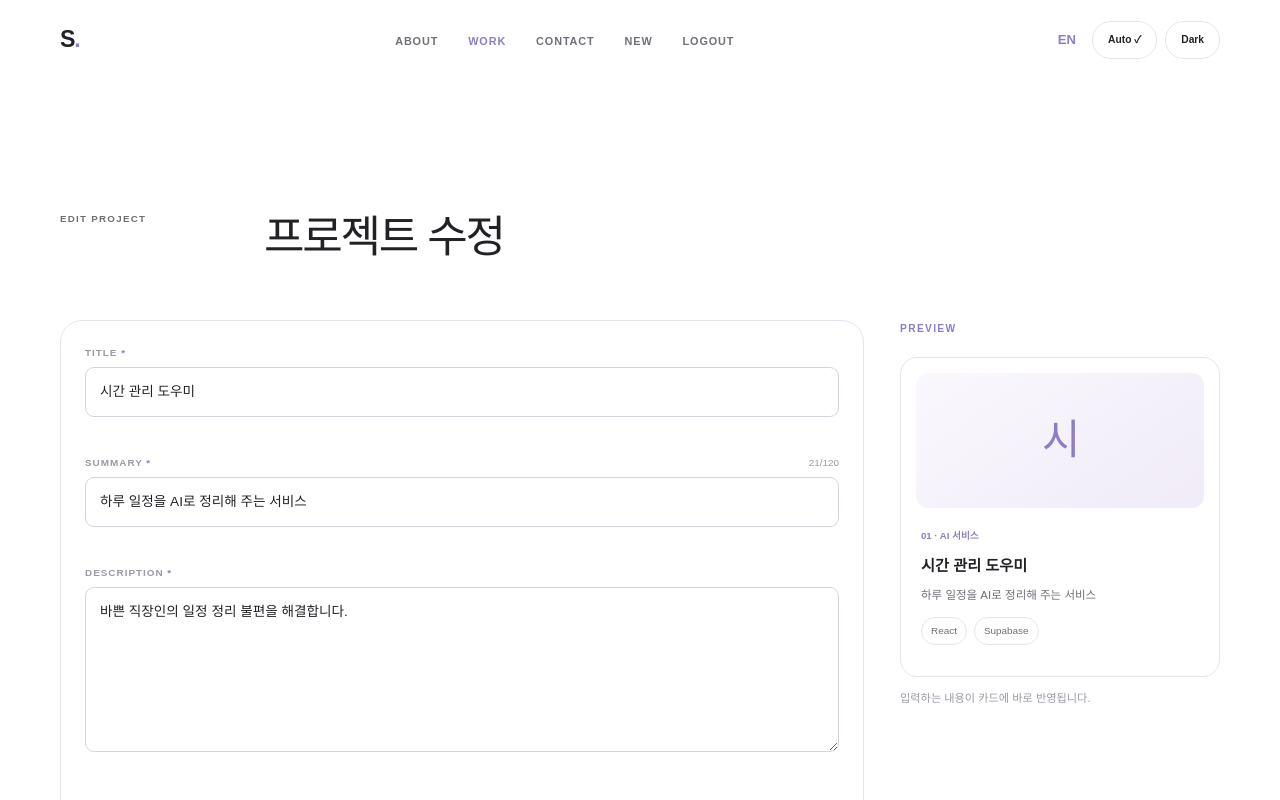
수정 화면 (/projects/:id/edit) › 기존 값을 채워 보여주고, 저장하면 상세 화면으로 돌아간다
This screenshot has width=1280, height=800.
Replace the text in the field labelled "TITLE *" with "새 제목" at (462, 392), box [85, 368, 839, 417]
(page scrolled)
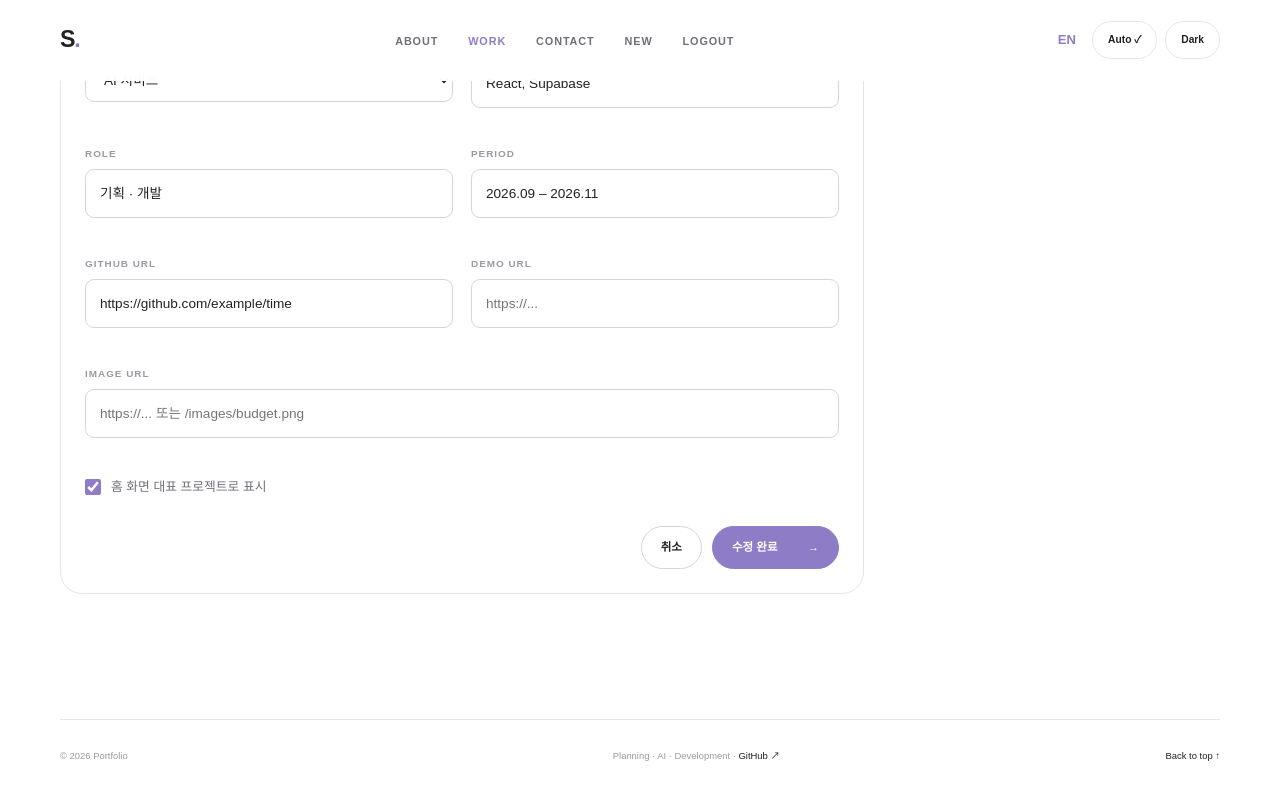
Click the button "수정 완료 →" at (775, 548), box [712, 526, 839, 570]
(page scrolled)
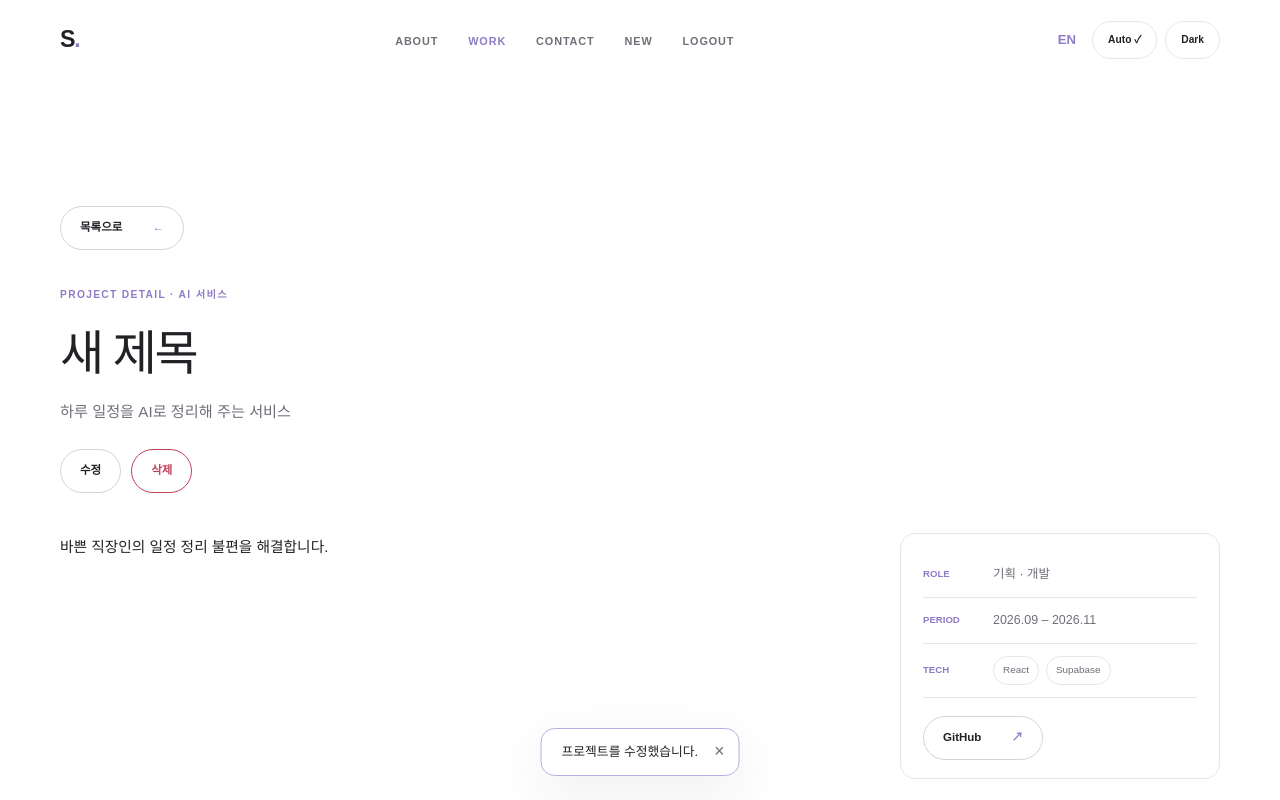
Expected: the heading "새 제목" is shown, [60, 327, 196, 380]
Expected: the text "프로젝트를 수정했습니다." is shown, [562, 741, 698, 763]
